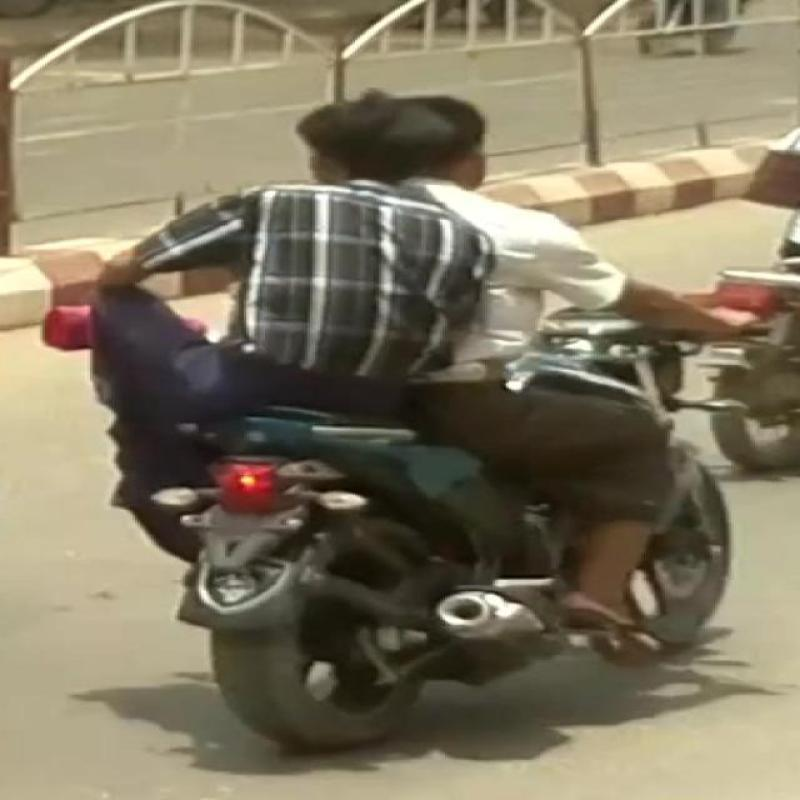nohelmet: (241, 90, 581, 202)
